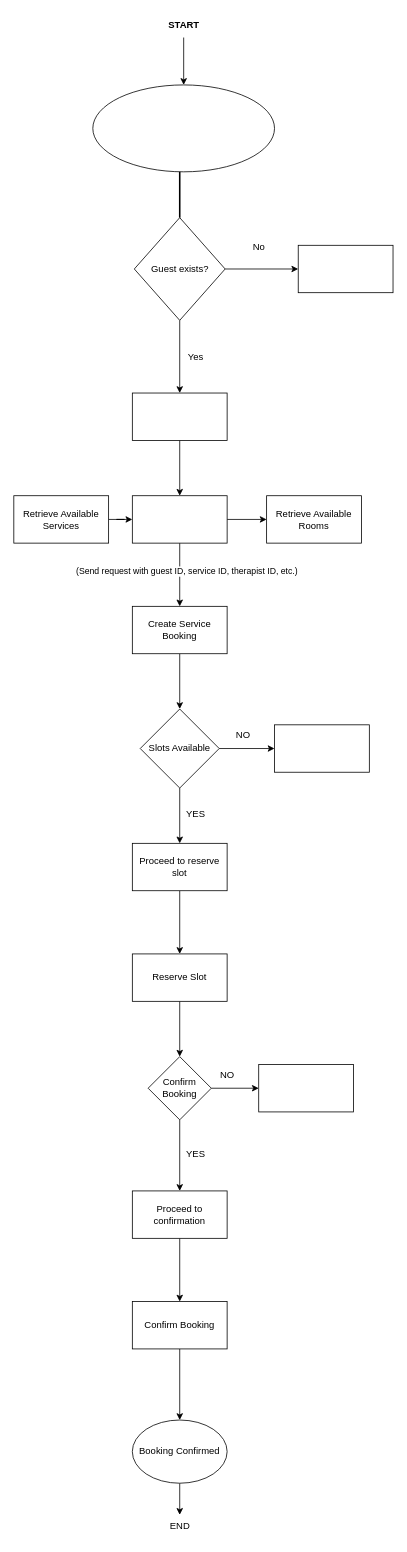
The diagram is 407 pixels wide and 1552 high, and some of its shapes have lost their labels. Here are the shapes that lost their labels. From the top down, the centre of each, then its label:
point 183,128: User initiates booking
point 345,269: Create a new guest
point 179,416: Proceed to service selection
point 179,519: Retrieve Available Therapists
point 321,748: Suggest alternative slot
point 306,1088: Cancel reservation
